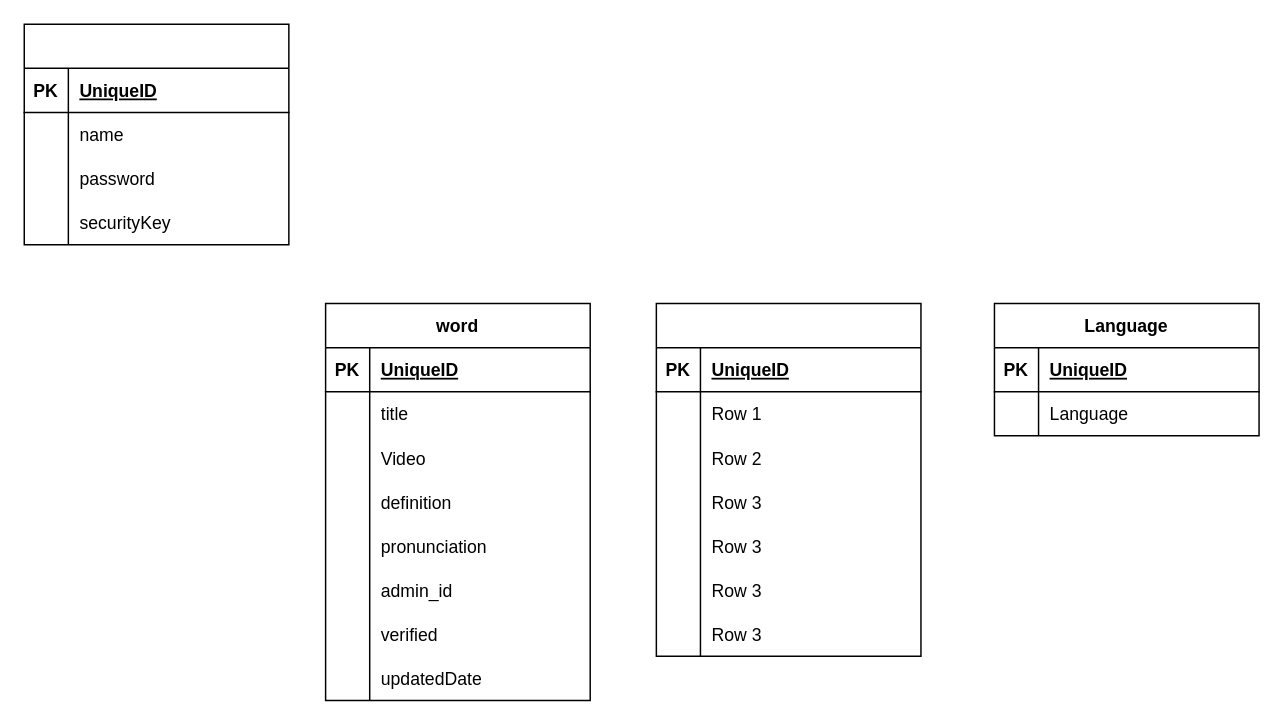
Some shapes in this 1283 by 725 pixel diagram are drawn without their labels. Each missing label, with the box of its shape:
admin: (23, 23, 289, 245)
WordLanguage: (655, 302, 921, 656)
